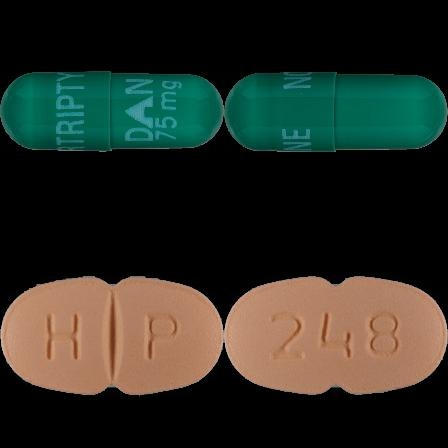63629-5065: (0, 0, 224, 224)
